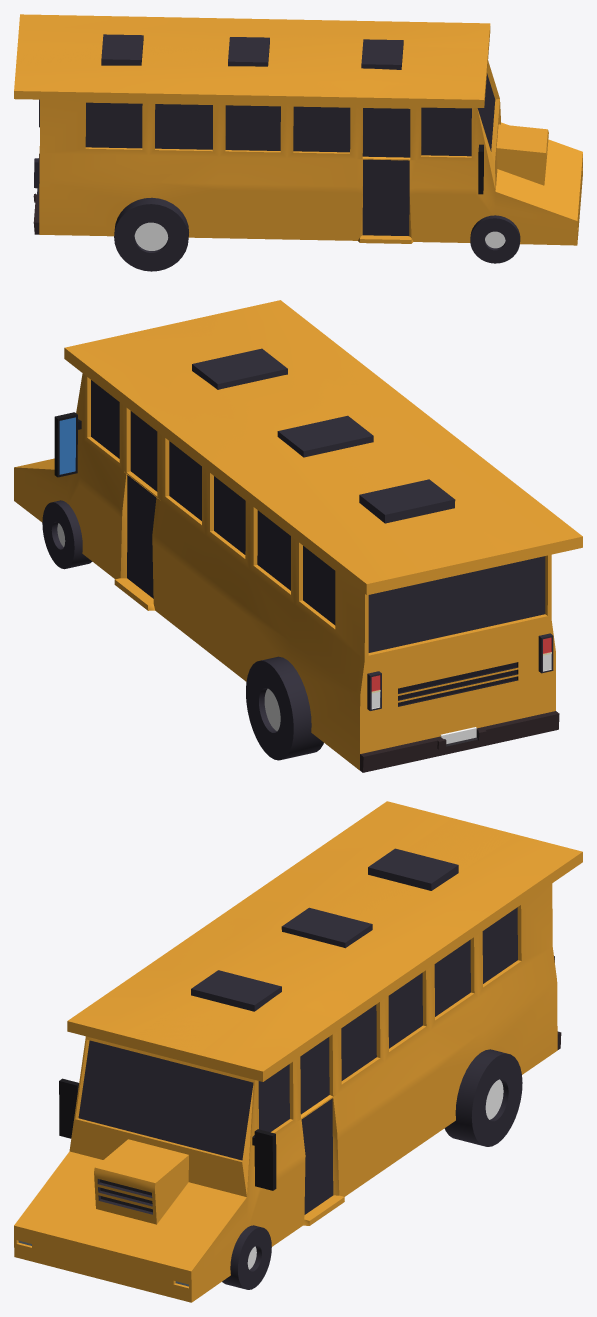
The model's file is bus.gltf.
The picture shows the model from 3 angles, top to bottom: view 1: azimuth 30°, elevation 25°; view 2: azimuth 150°, elevation 25°; view 3: azimuth 270°, elevation 25°; orthographic projection. The views are drawn at different scales.
Parts seen in each view (by area): view 1: Cube_0; view 2: Cube_0; view 3: Cube_0.
Boxes of the visible parts, x1,y1,x2,y2 form: Cube_0: (14, 14, 582, 271); Cube_0: (14, 300, 582, 772); Cube_0: (14, 801, 582, 1302).
Bounding box in the file's own units: 8.53 × 3.04 × 6.64.
1 material, 1 textured.
